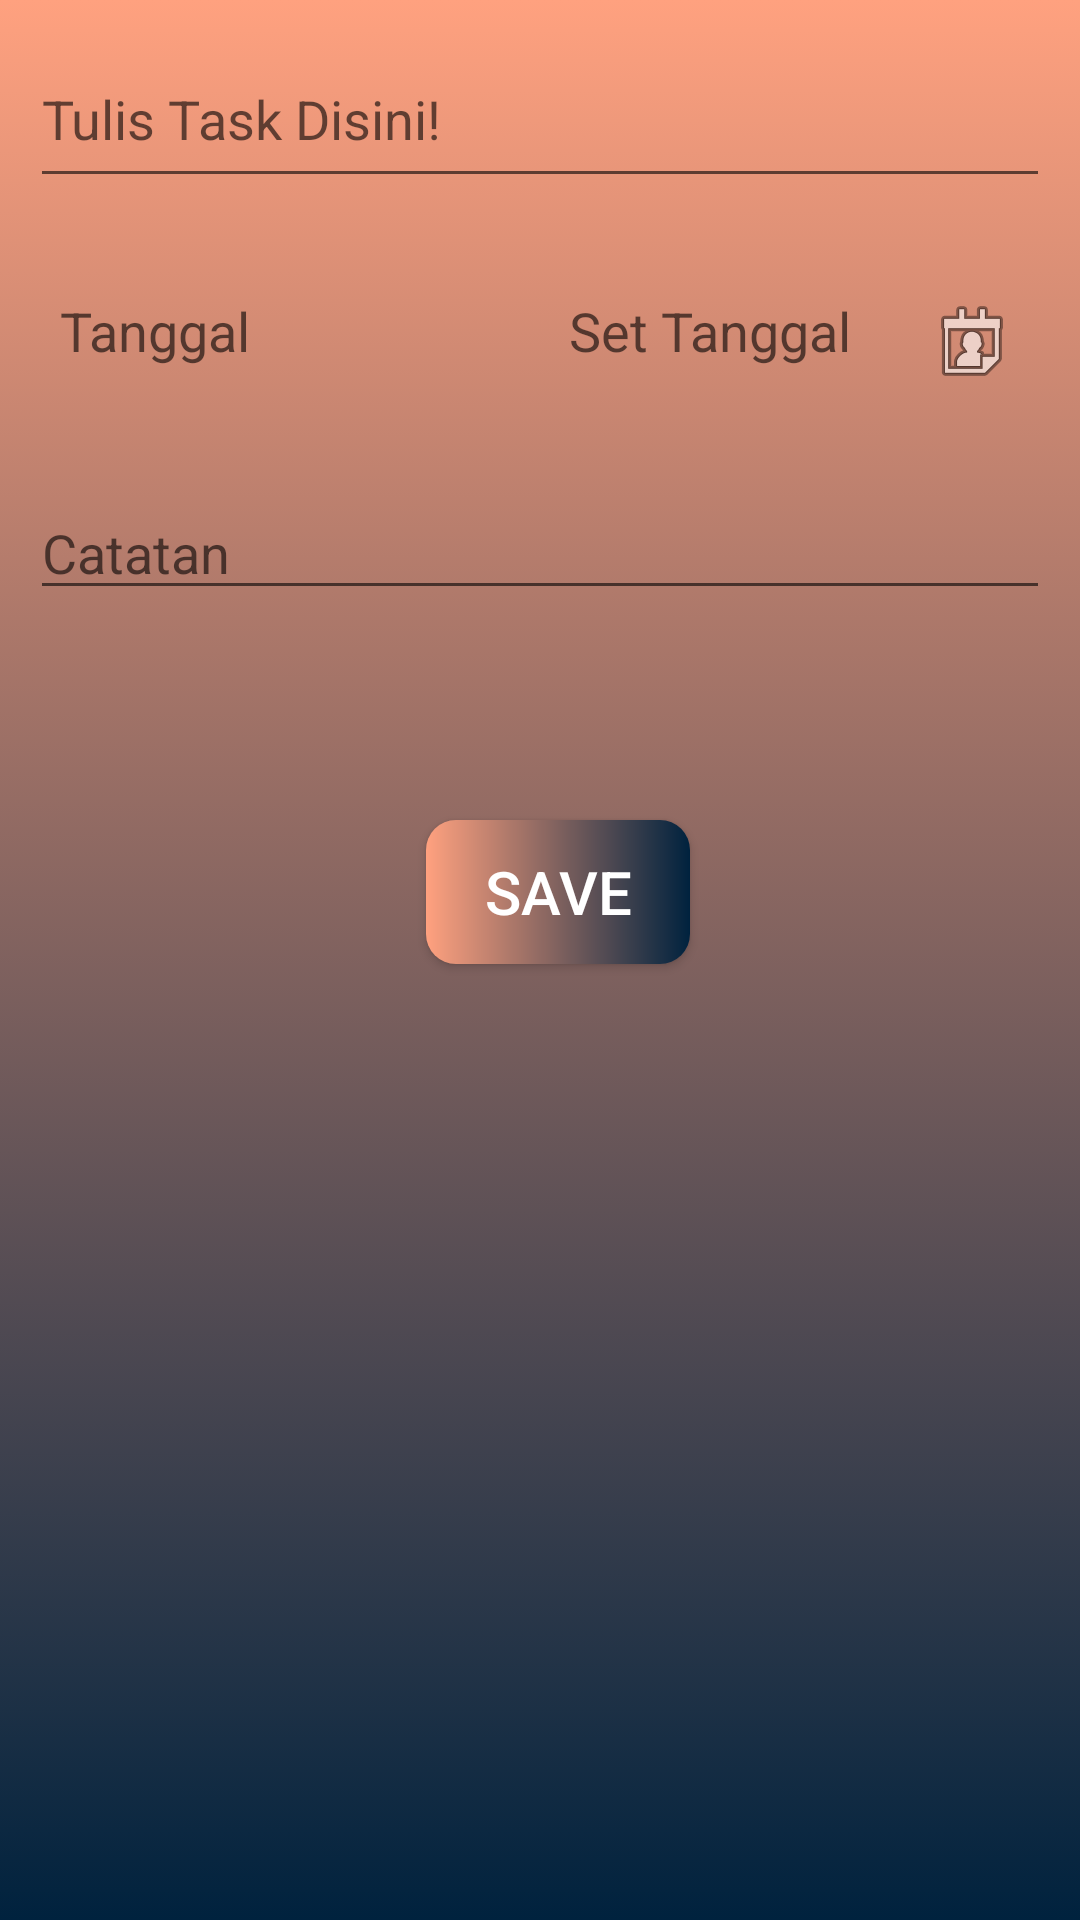

Named icons in this screenshot (1080×1920) and their centers, (x,y):
calendar: (972,341)
